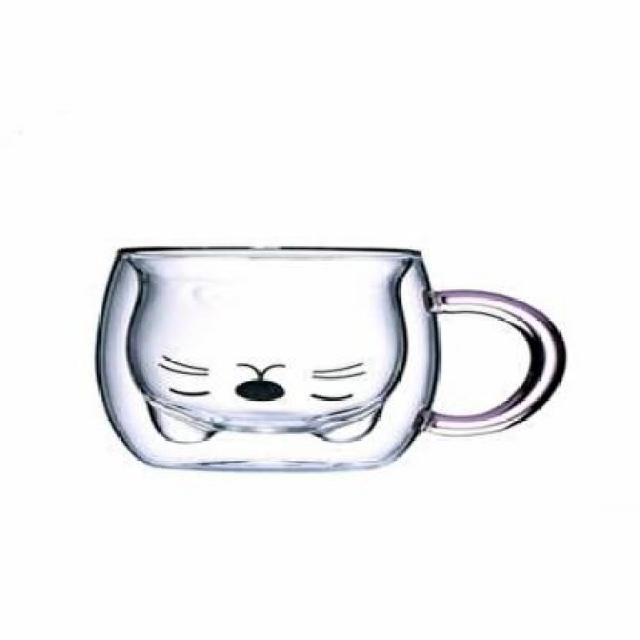taza: (92, 243, 568, 476)
